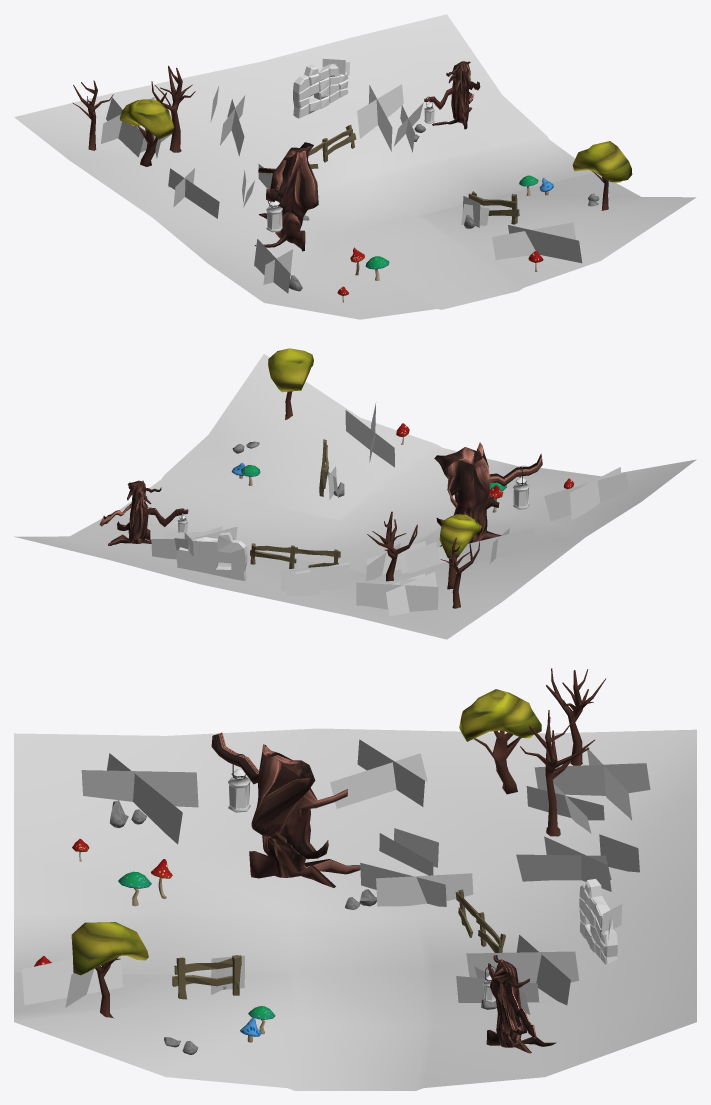
File: environment2.fbx
3 views of the same model, one above another, from view 1: azimuth 30°, elevation 25°; view 2: azimuth 150°, elevation 25°; view 3: azimuth 270°, elevation 25° (orthographic). The views are drawn at different scales.
Parts seen in each view (by area): view 1: zemin2, Cylinder.013, Cube.001, Sphere.003, Cylinder.020, Sphere.002, Plane.087, Plane.086, Plane.092, Plane.095, Plane.021, Plane.073 (+5 smaller); view 2: zemin2, Cylinder.013, Cube.001, Cylinder.020, Plane.078, Sphere.003, Plane.081, Plane.067, Sphere.002, Plane.087, Plane.083, LowPolyFence_01.001 (+7 smaller); view 3: zemin2, Cylinder.013, Plane.073, Cylinder.020, Sphere.002, Sphere.003, Plane.077, Plane.086, Plane.021, Plane.069, Plane.091, Cube.001 (+17 smaller).
Part boxes in pixels (x1,y1,x2,y2): zemin2: (14,14,696,319); Cylinder.013: (254,142,318,251); Cube.001: (293,63,348,118); Sphere.003: (572,141,632,182); Cylinder.020: (424,61,480,129); Sphere.002: (120,99,174,139); Plane.087: (492,222,576,259); Plane.086: (508,225,582,263); Plane.092: (357,84,403,138); Plane.095: (151,65,195,152); Plane.021: (168,168,219,218); Plane.073: (254,239,290,293); zemin2: (14,354,696,639); Cylinder.013: (434,442,542,546); Cube.001: (176,532,247,580); Cylinder.020: (99,480,188,545); Plane.078: (356,582,438,611); Sphere.003: (268,348,313,392); Plane.081: (544,472,629,521); Plane.067: (465,528,535,564); Sphere.002: (439,514,481,558); Plane.087: (345,410,394,467); Plane.083: (280,564,349,591); LowPolyFence_01.001: (250,543,340,568); zemin2: (14,728,696,1090); Cylinder.013: (211,732,360,887); Plane.073: (81,770,198,807); Cylinder.020: (486,955,556,1053); Sphere.002: (459,689,541,741); Sphere.003: (71,922,148,975); Plane.077: (534,763,650,795); Plane.086: (22,956,123,1005); Plane.021: (330,753,427,808); Plane.069: (376,873,473,906); Plane.091: (466,951,578,983); Cube.001: (579,879,617,964).
Size of the model in its own units: 2250 by 583 by 2250.
